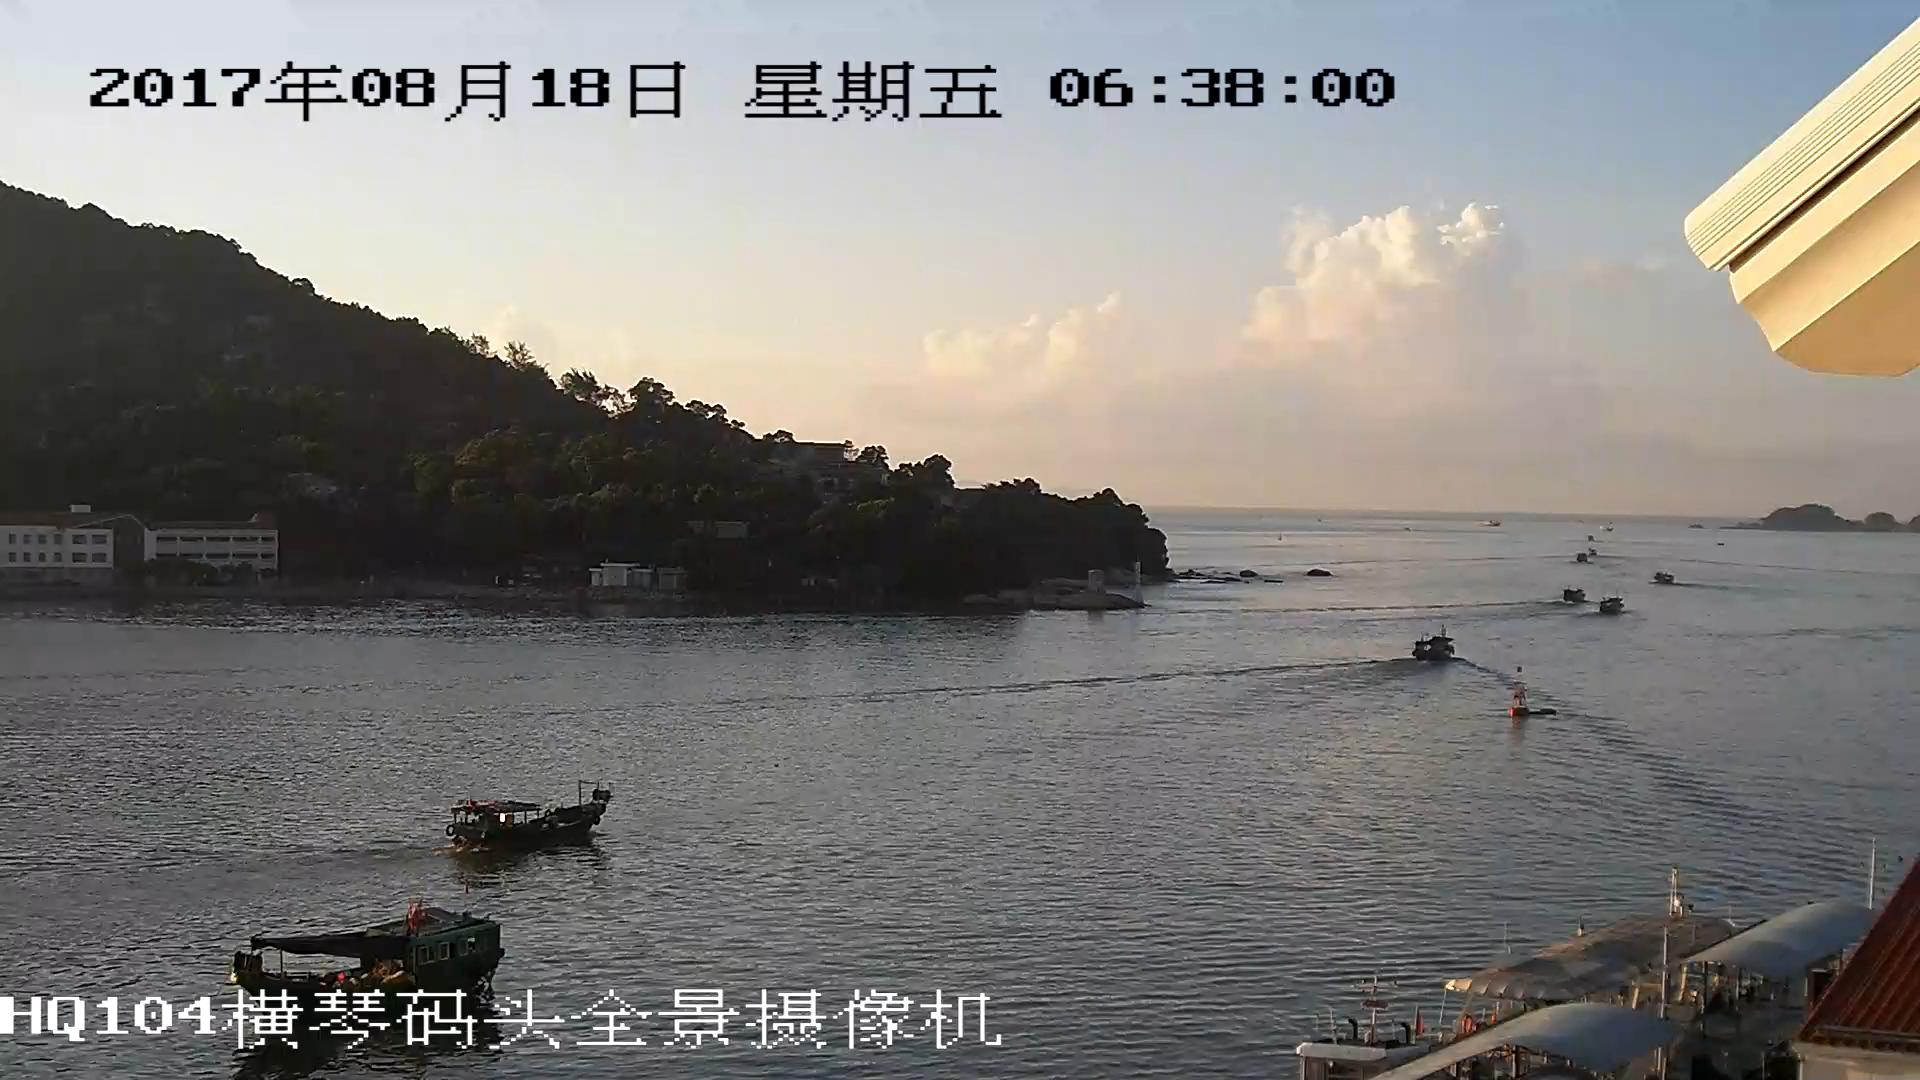fishing boat: (230, 917, 504, 986), (450, 792, 616, 849), (1416, 631, 1455, 660)
